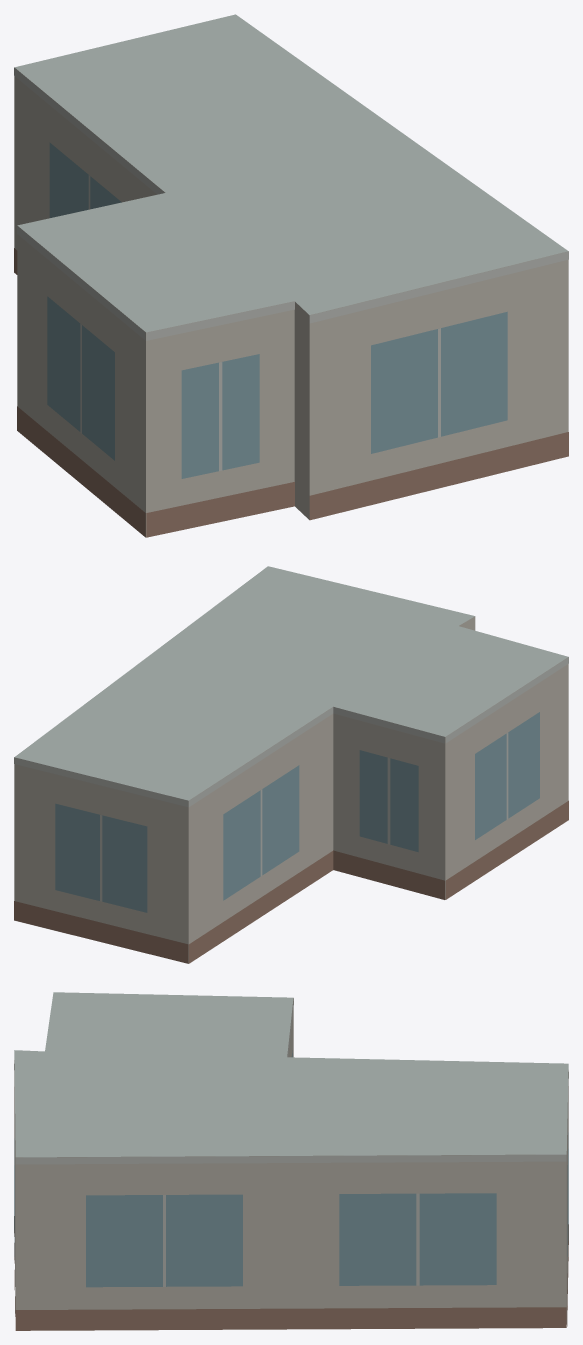
Rendered from survey-upis-32727375.glb.
The picture shows the model from 3 angles, top to bottom: view 1: azimuth 30°, elevation 25°; view 2: azimuth 150°, elevation 25°; view 3: azimuth 270°, elevation 25°; orthographic projection. The views are drawn at different scales.
Visible parts, largest first — view 1: survey-upis-32727375.tmp; view 2: survey-upis-32727375.tmp; view 3: survey-upis-32727375.tmp.
Part boxes in pixels (box(x1,y1,x2,y2)): survey-upis-32727375.tmp: box(14, 14, 568, 537); survey-upis-32727375.tmp: box(14, 566, 568, 963); survey-upis-32727375.tmp: box(14, 992, 568, 1330).
Size of the model in its own units: 6.24 by 3.05 by 8.85.
